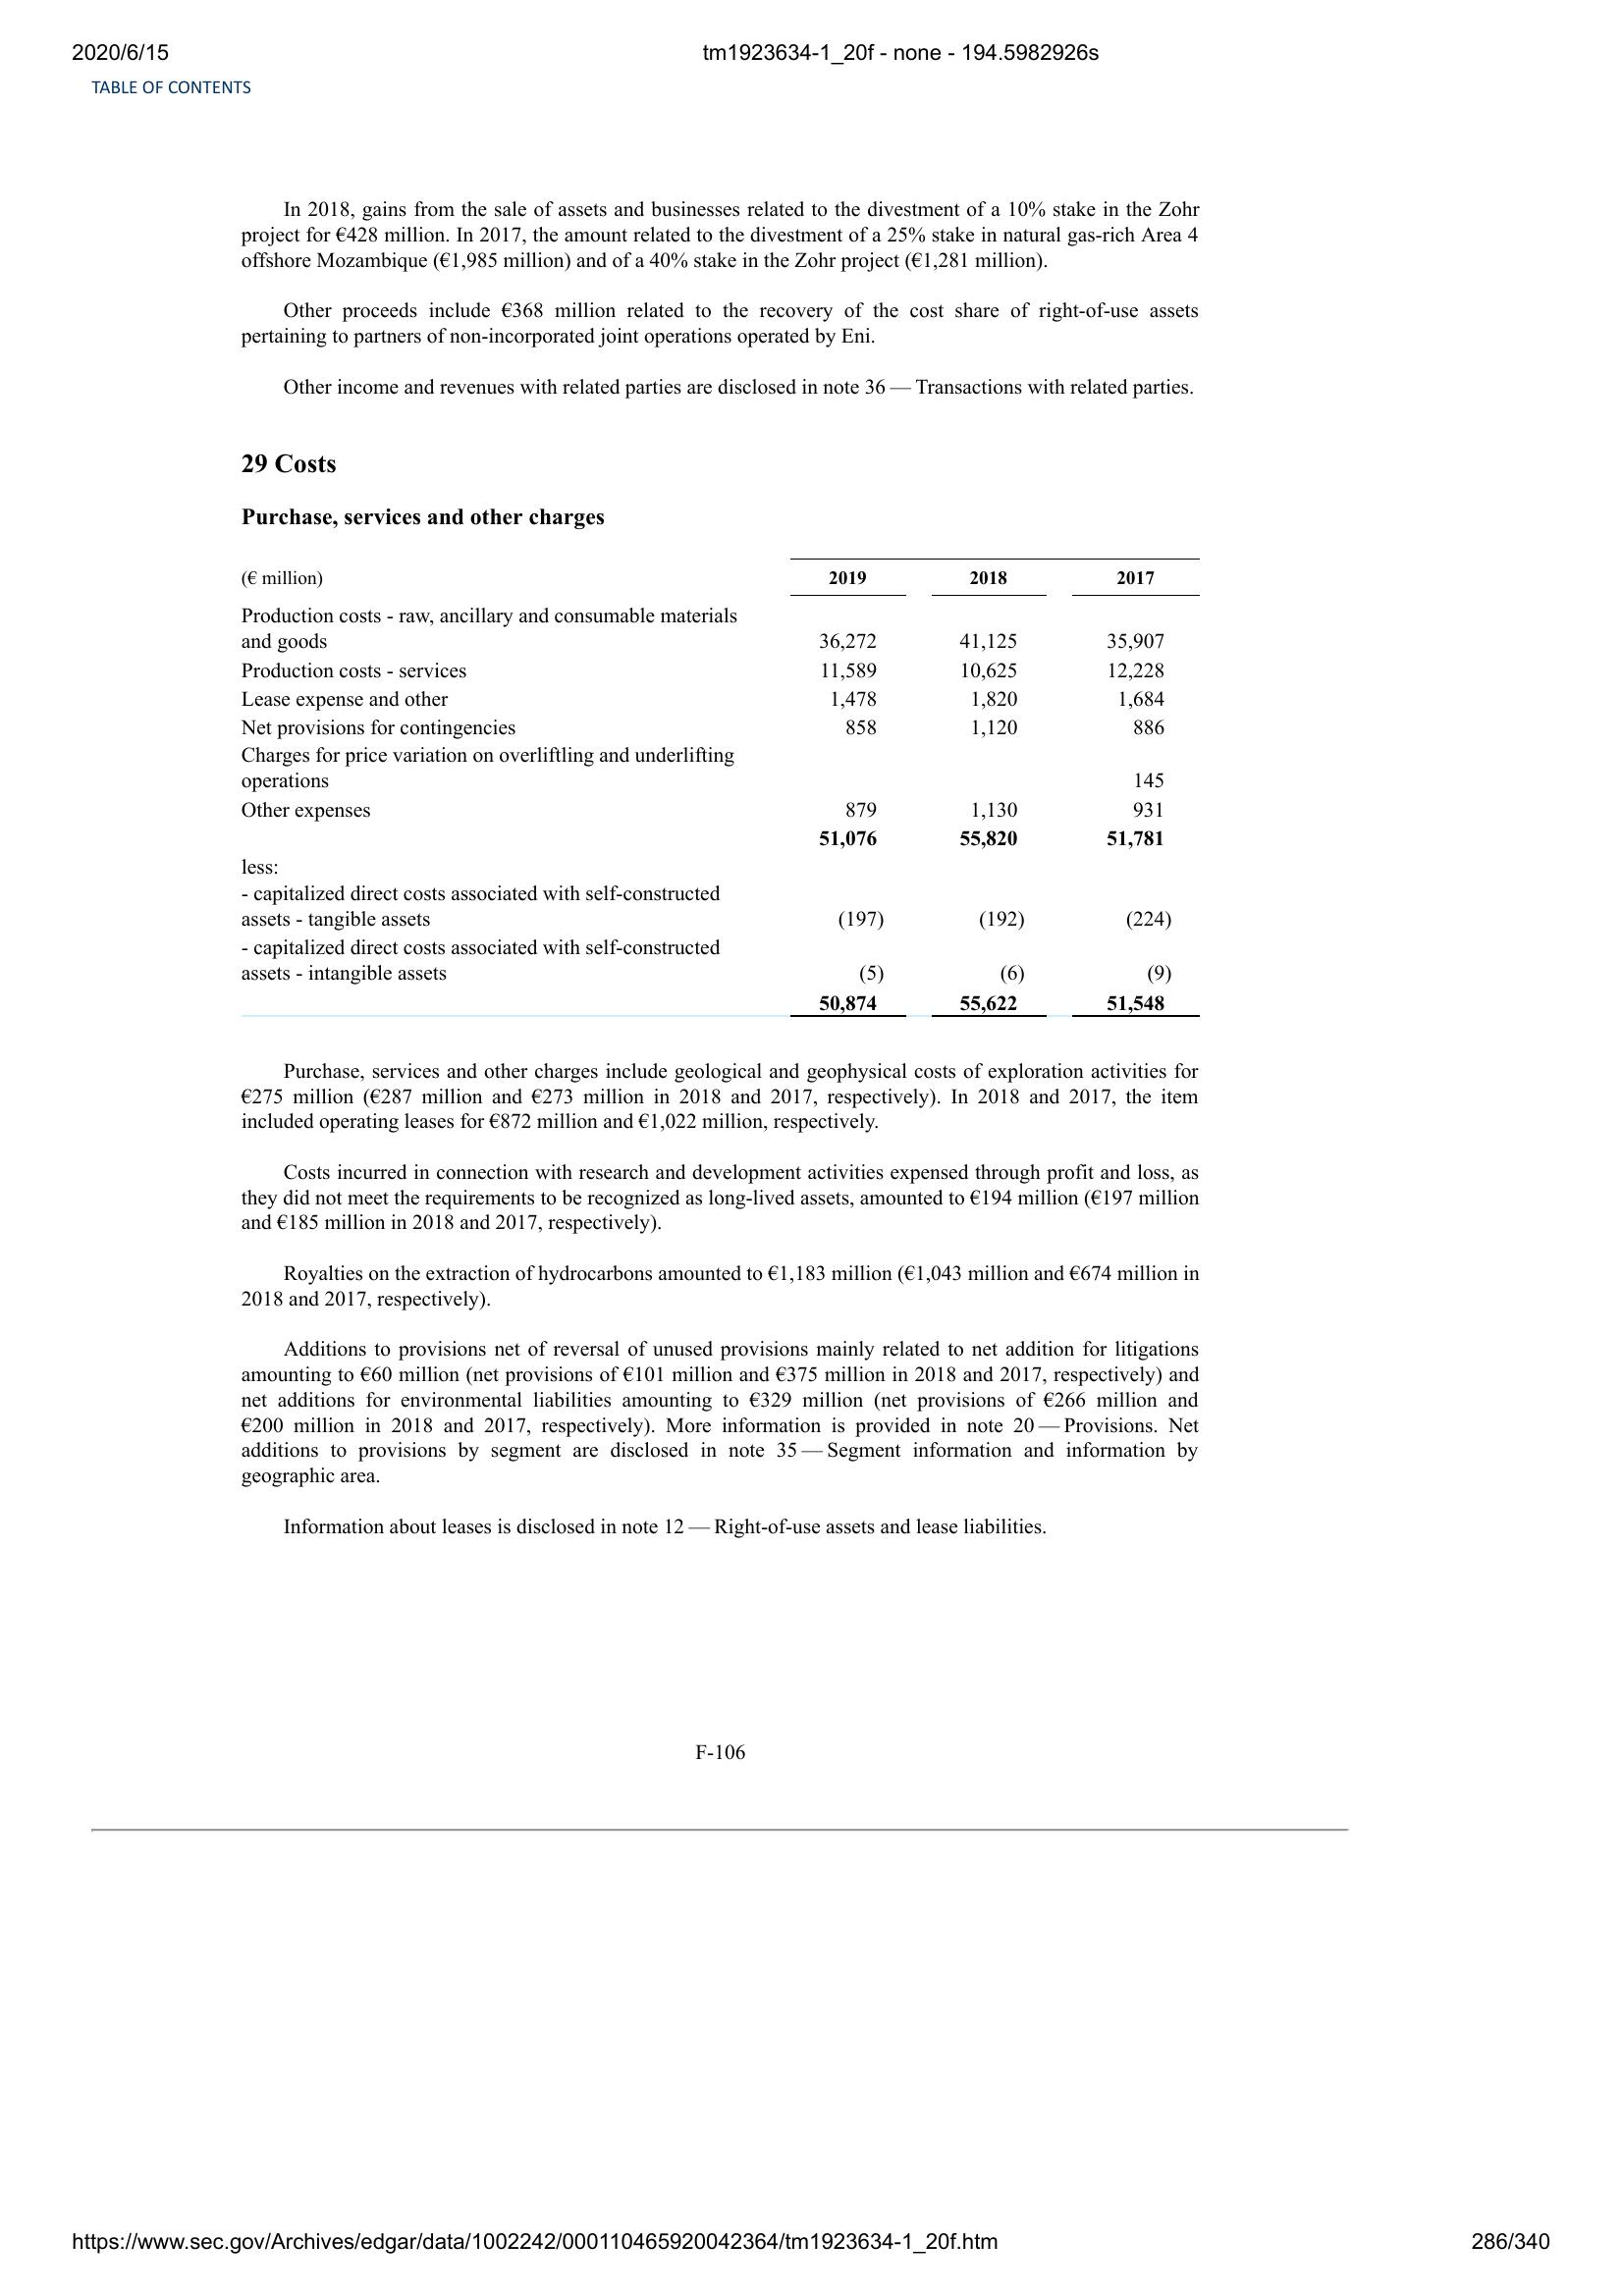table: (237, 562, 1200, 1016)
